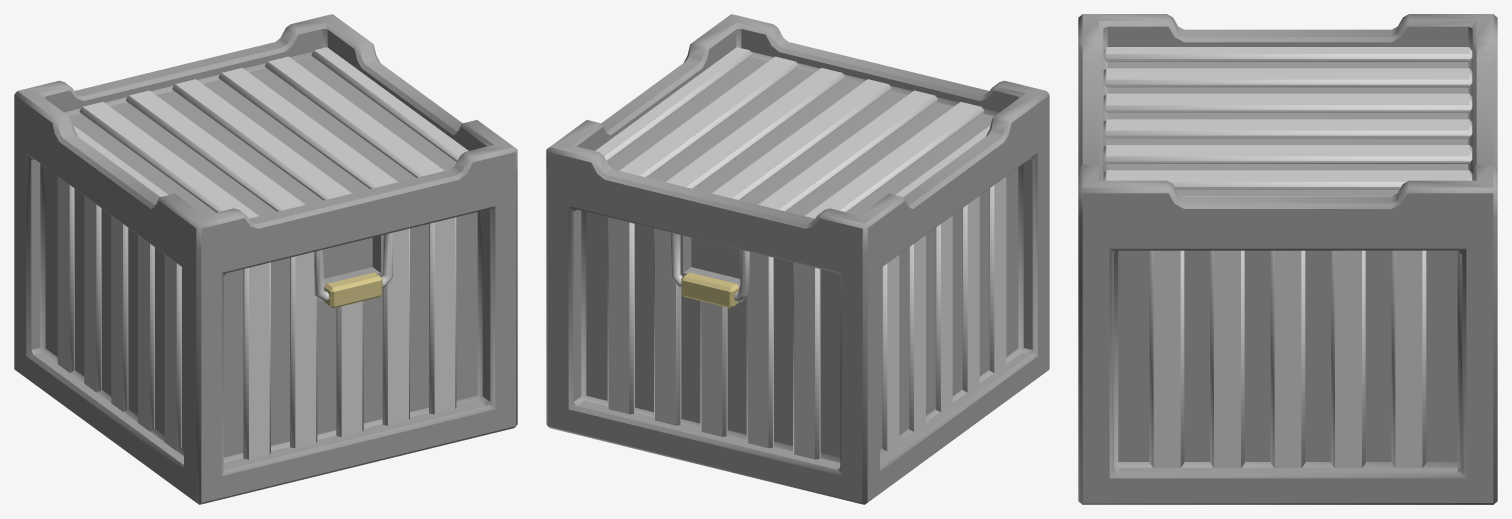
File: static.fbx
3 renders of one model, left to right at view 1: azimuth 30°, elevation 25°; view 2: azimuth 150°, elevation 25°; view 3: azimuth 270°, elevation 25°, orthographic. The views are drawn at different scales.
Visible parts, largest first — view 1: Boole_2, Cube_0_2, Cube_4_2, Cube_1_2, Cube_3_2, Cube_5, Cube_3_4, Cube_4_3, Cube_2_4, Cube_1_3, Cube_2_3, Cube_4 (+8 smaller); view 2: Boole_2, Cube_0_2, Cube_4_2, Cube_1_2, Cube_3_2, Cube_5, Cube_3_4, Cube_4_3, Cube_2_4, Cube_1_3, Cube_2_3, Cube_0 (+8 smaller); view 3: Boole_2, Cube_0, Cube_2, Cube_4, Cube_1, Cube_3, Cube_2_4, Cube_3_4, Cube_1_3, Cube_4_3, Cube_5, Cube_0_3.
Part boxes in pixels (x1=…): Boole_2: x1=14, y1=14, x2=517, y2=504; Cube_0_2: x1=243, y1=262, x2=270, y2=459; Cube_4_2: x1=429, y1=217, x2=456, y2=414; Cube_1_2: x1=290, y1=252, x2=317, y2=448; Cube_3_2: x1=382, y1=228, x2=409, y2=425; Cube_5: x1=265, y1=56, x2=444, y2=177; Cube_3_4: x1=172, y1=79, x2=351, y2=200; Cube_4_3: x1=218, y1=68, x2=398, y2=188; Cube_2_4: x1=126, y1=90, x2=305, y2=211; Cube_1_3: x1=79, y1=102, x2=258, y2=218; Cube_2_3: x1=336, y1=301, x2=363, y2=436; Cube_4: x1=57, y1=176, x2=74, y2=372; Boole_2: x1=546, y1=14, x2=1049, y2=504; Cube_0_2: x1=793, y1=262, x2=820, y2=459; Cube_4_2: x1=607, y1=217, x2=634, y2=414; Cube_1_2: x1=746, y1=252, x2=773, y2=448; Cube_3_2: x1=654, y1=228, x2=681, y2=425; Cube_5: x1=619, y1=56, x2=798, y2=177; Cube_3_4: x1=712, y1=79, x2=891, y2=200; Cube_4_3: x1=665, y1=68, x2=845, y2=188; Cube_2_4: x1=758, y1=90, x2=937, y2=211; Cube_1_3: x1=805, y1=102, x2=984, y2=218; Cube_2_3: x1=700, y1=301, x2=727, y2=436; Cube_0: x1=989, y1=176, x2=1006, y2=372; Boole_2: x1=1078, y1=14, x2=1497, y2=504; Cube_0: x1=1149, y1=250, x2=1184, y2=467; Cube_2: x1=1270, y1=250, x2=1305, y2=467; Cube_4: x1=1391, y1=250, x2=1426, y2=467; Cube_1: x1=1210, y1=250, x2=1244, y2=467; Cube_3: x1=1331, y1=250, x2=1365, y2=467; Cube_2_4: x1=1103, y1=93, x2=1472, y2=112; Cube_3_4: x1=1103, y1=119, x2=1472, y2=138; Cube_1_3: x1=1103, y1=68, x2=1472, y2=87; Cube_4_3: x1=1103, y1=145, x2=1472, y2=163; Cube_5: x1=1103, y1=170, x2=1472, y2=189; Cube_0_3: x1=1103, y1=47, x2=1472, y2=61.
Bounding box in the file's own units: 200 × 167 × 200.
Materials: 3 (3 with a texture image).
